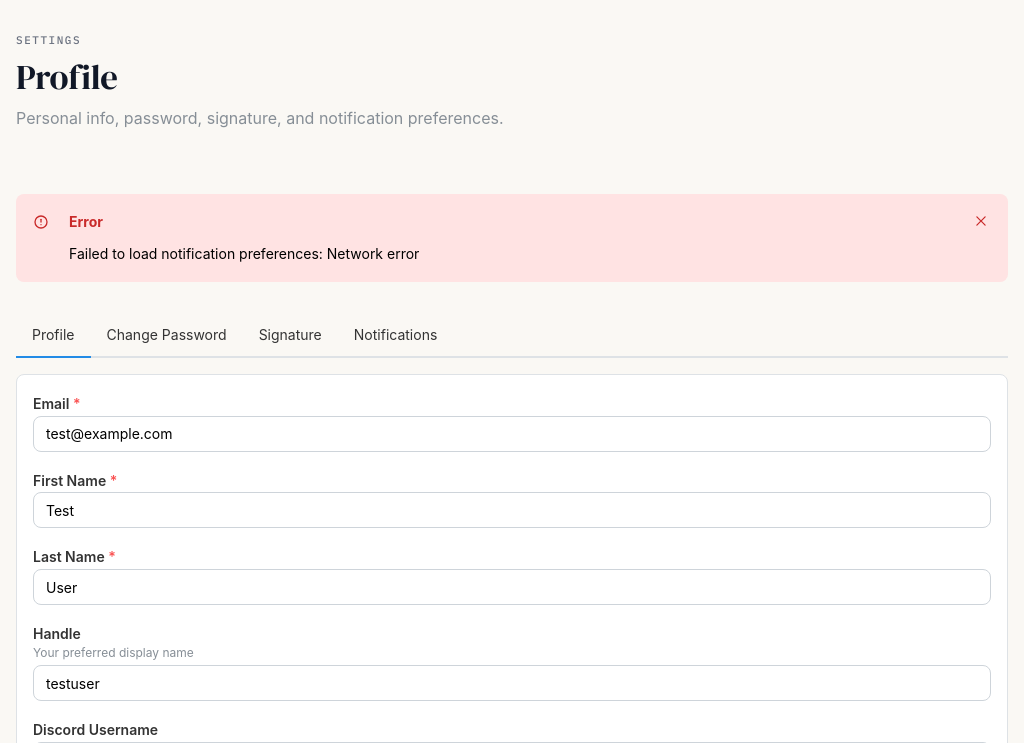
Scenario: UserProfilePage › shows retry button when preferences fail to load
This screenshot has width=1024, height=743.
Check: the heading "Profile" is shown, box [16,53,118,101]
# Click on notifications tab
What coordinates should you click on to do the following:
click the tab "Notifications"
I would click on:
 (396, 336)
Its box is [338,314,453,358].
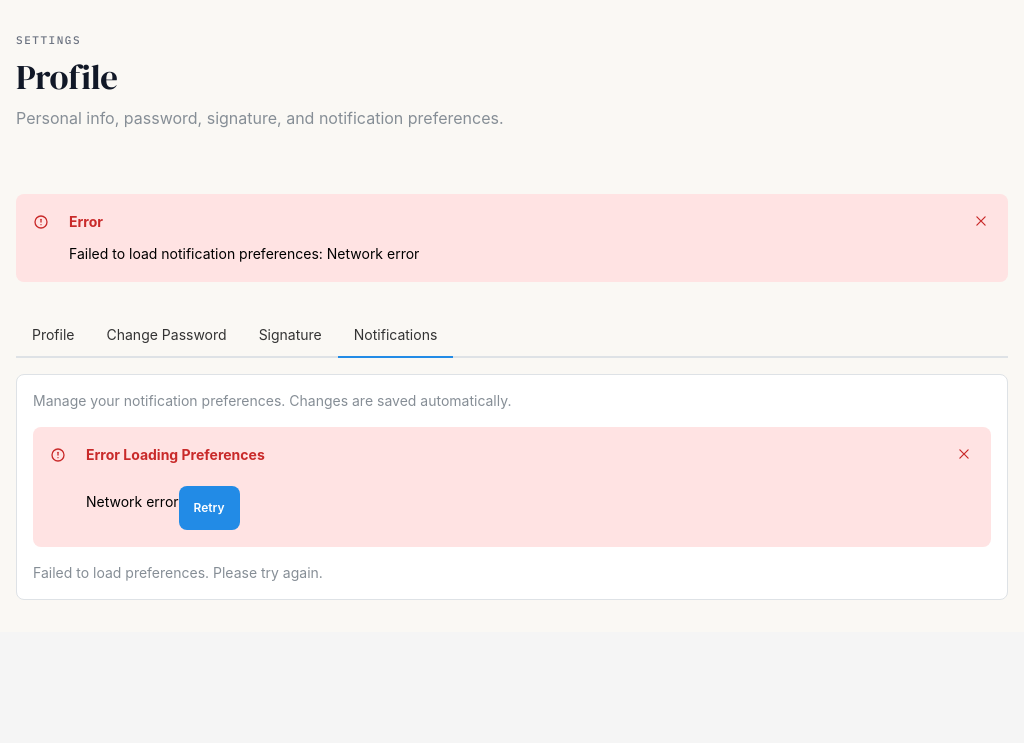
Check: the button "Retry" is shown, box [194,500,225,515]
# Click retry button
What coordinates should you click on to do the following:
click the button "Retry"
I would click on:
 (209, 508)
Its box is [179,486,240,530].
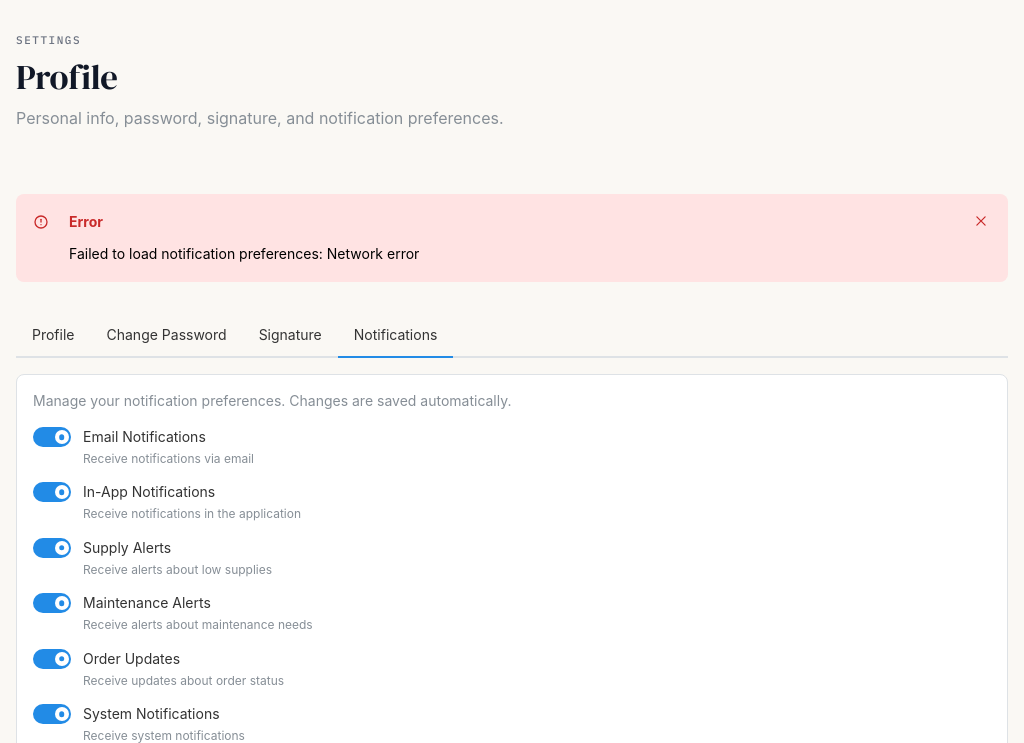
Check: the text "Email Notifications" is shown, box [83,428,206,445]
